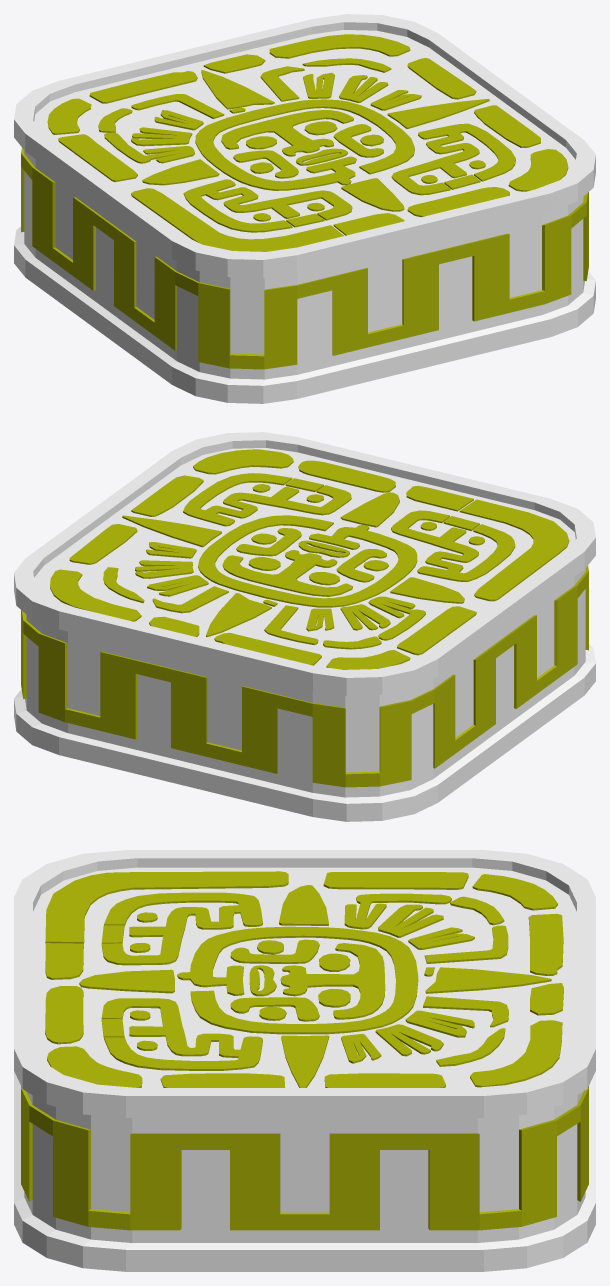
Rendered from Light.gltf.
The picture shows the model from 3 angles, top to bottom: view 1: azimuth 30°, elevation 25°; view 2: azimuth 150°, elevation 25°; view 3: azimuth 270°, elevation 25°; orthographic projection. The views are drawn at different scales.
Parts seen in each view (by area): view 1: Base, Inka Top, Side; view 2: Base, Inka Top, Side; view 3: Base, Inka Top, Side.
Boxes of the visible parts, x1,y1,x2,y2 form: Base: [14, 14, 595, 403]; Inka Top: [47, 34, 568, 251]; Side: [21, 148, 588, 369]; Base: [14, 432, 595, 821]; Inka Top: [50, 449, 569, 669]; Side: [21, 566, 588, 787]; Base: [14, 850, 595, 1271]; Inka Top: [45, 871, 563, 1087]; Side: [21, 1086, 588, 1230].
Size of the model in its own units: 3 by 1 by 3.
